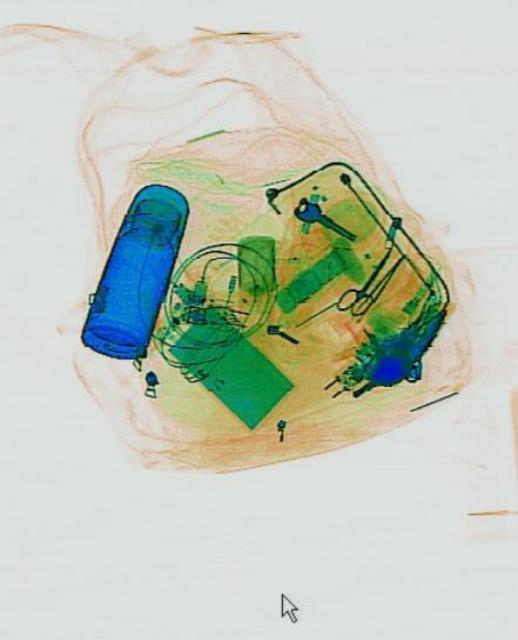Scissors: (332, 235, 399, 322)
